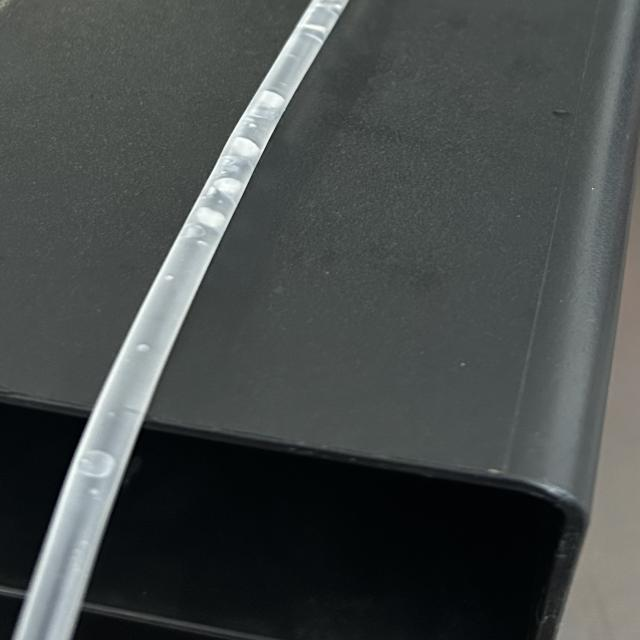bubble: (59, 444, 123, 480), (131, 334, 183, 362), (297, 0, 342, 27), (208, 173, 247, 203), (223, 135, 264, 162), (250, 88, 292, 112), (195, 205, 235, 229), (194, 206, 226, 227), (178, 222, 210, 241), (154, 270, 188, 286), (239, 112, 262, 135), (84, 487, 113, 501)
